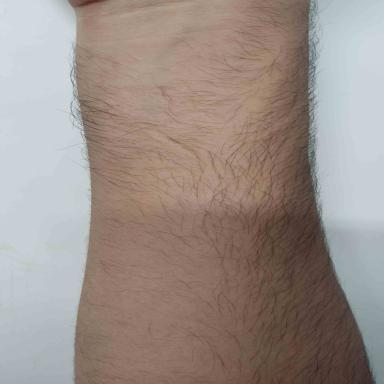normal skin: (75, 0, 372, 384)
